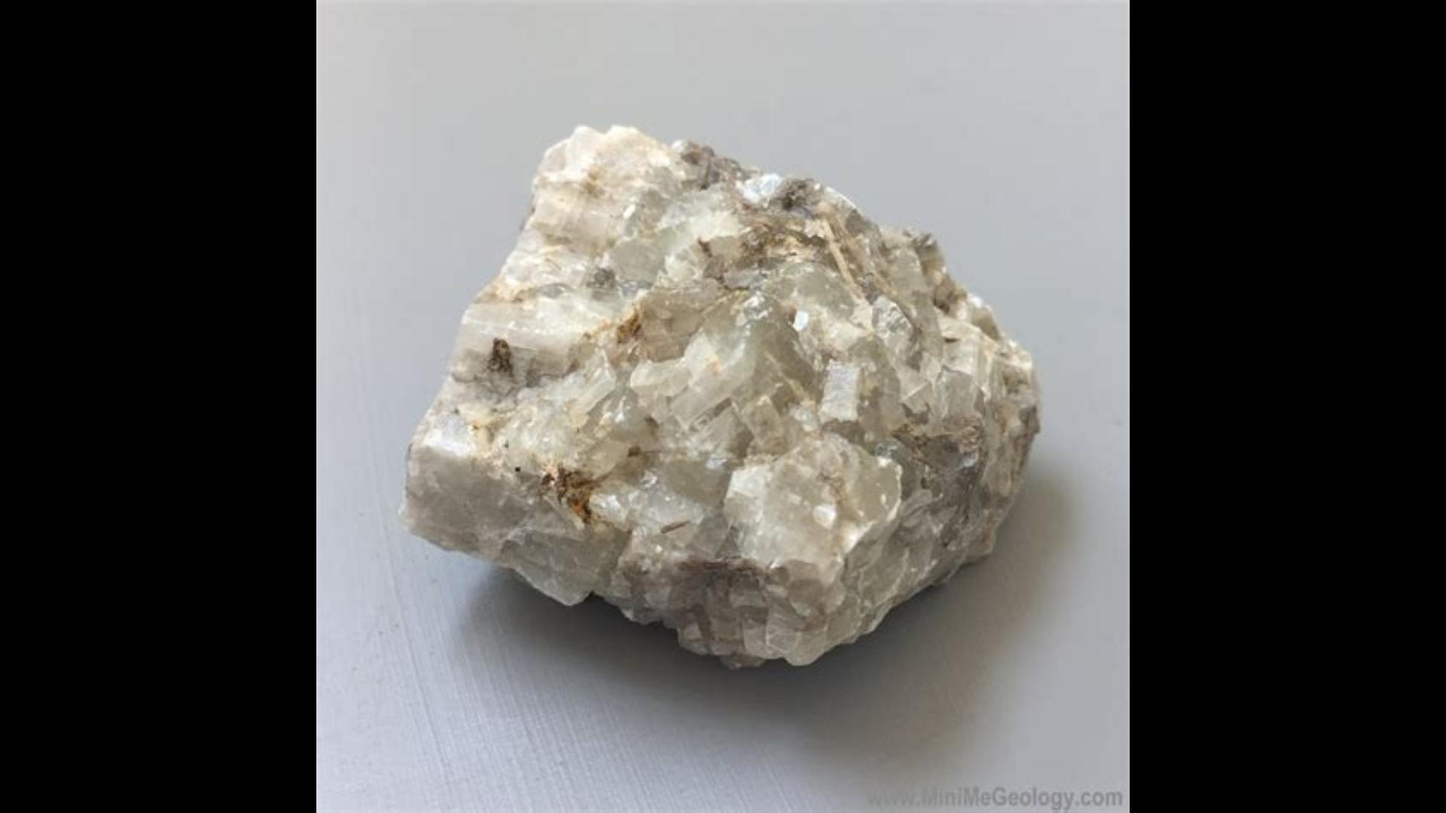rock: (404, 127, 1037, 665)
